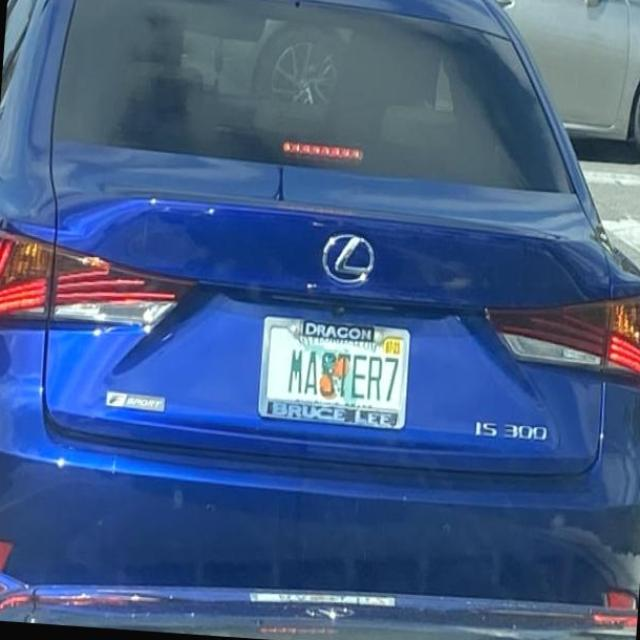LicensePlate: (255, 314, 411, 431)
